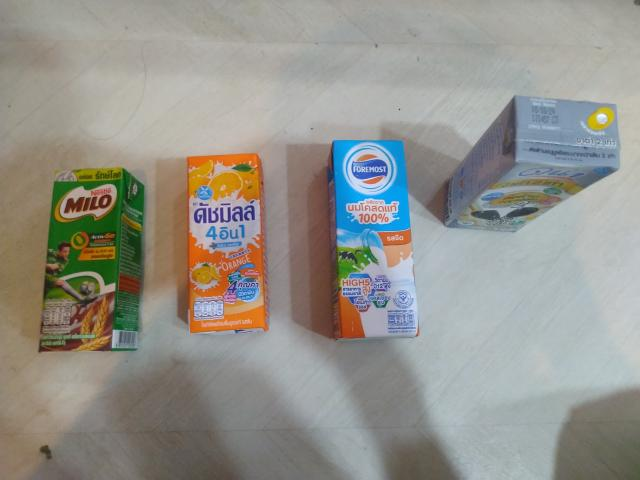drink_box: (445, 78, 627, 250), (314, 125, 442, 354), (29, 151, 155, 370), (175, 139, 274, 348)
